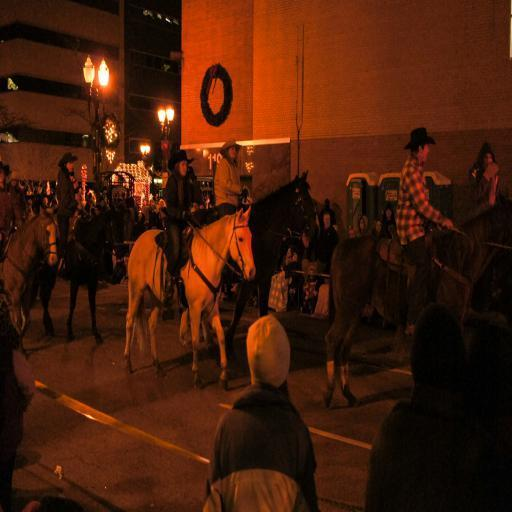horse: (325, 198, 512, 408), (122, 204, 256, 392), (185, 168, 321, 350), (0, 206, 58, 358)
